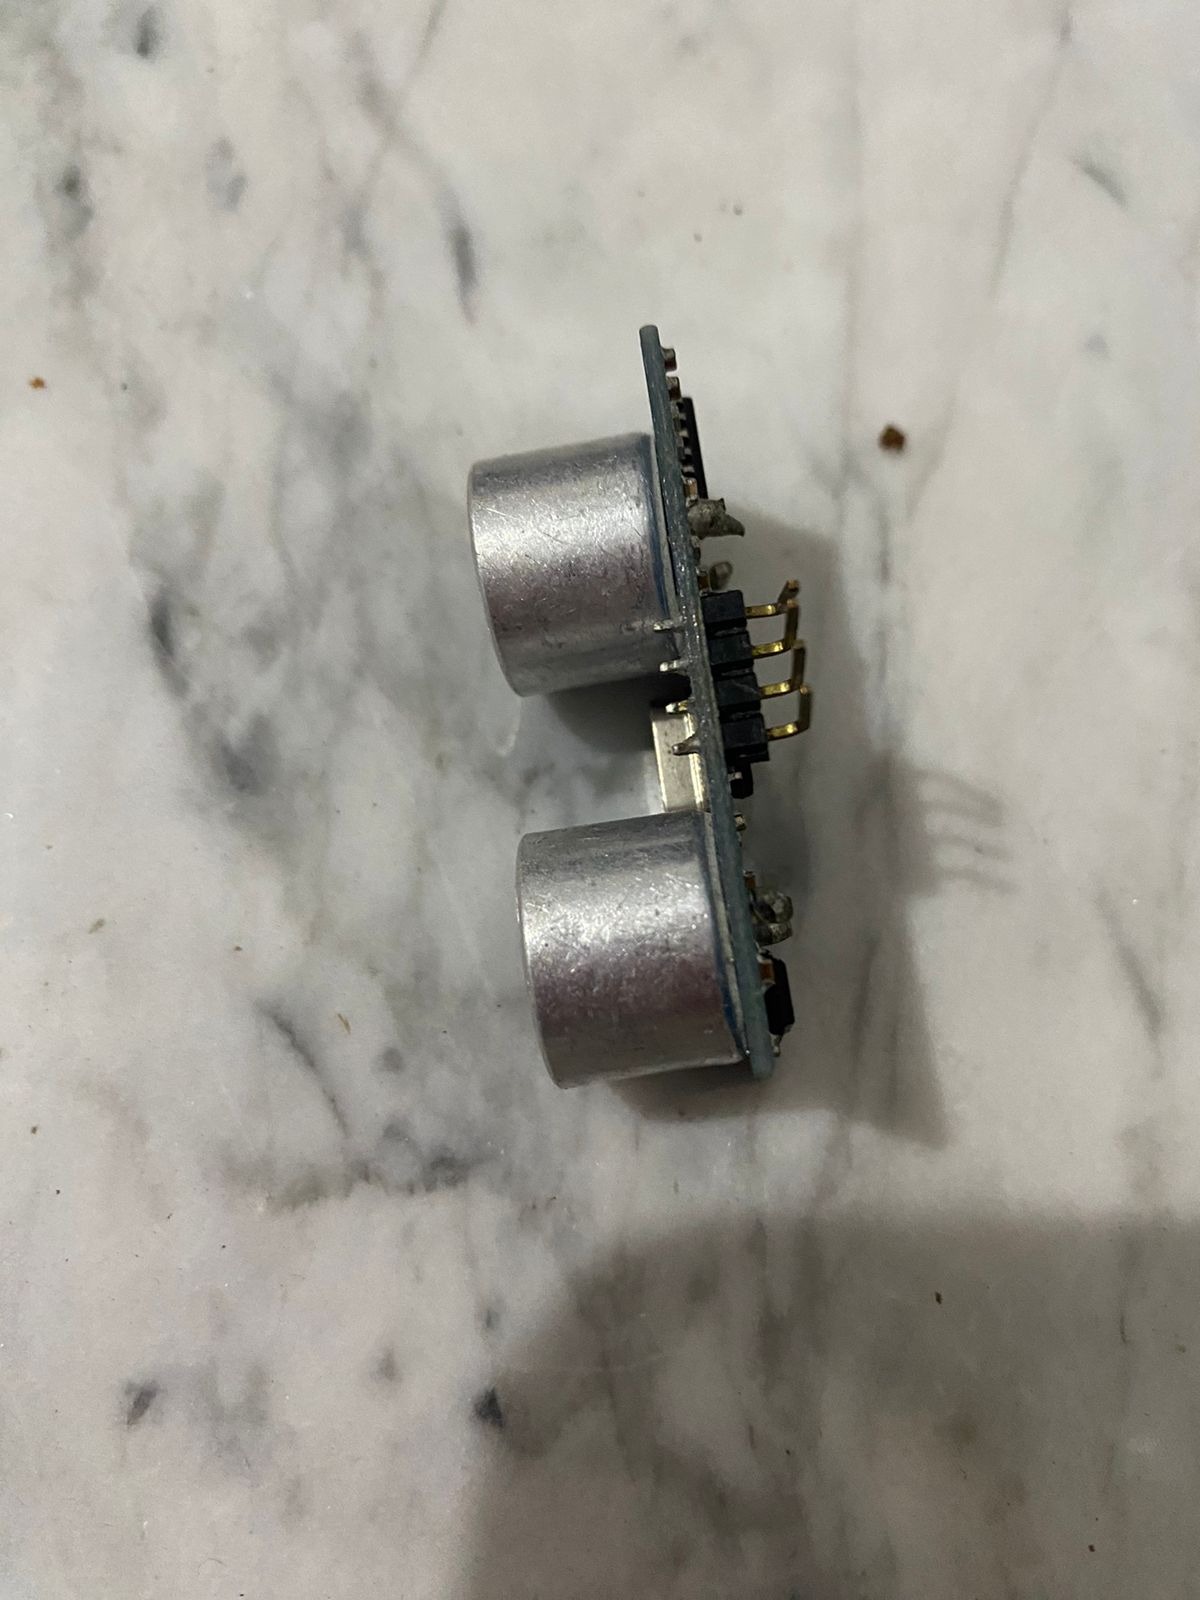capteur-ultrasonique: (460, 321, 836, 1095)
